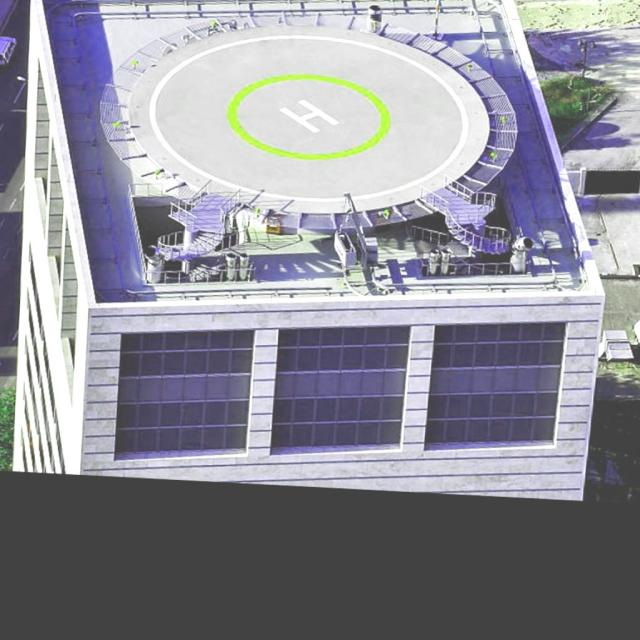helipad: (223, 66, 395, 168)
